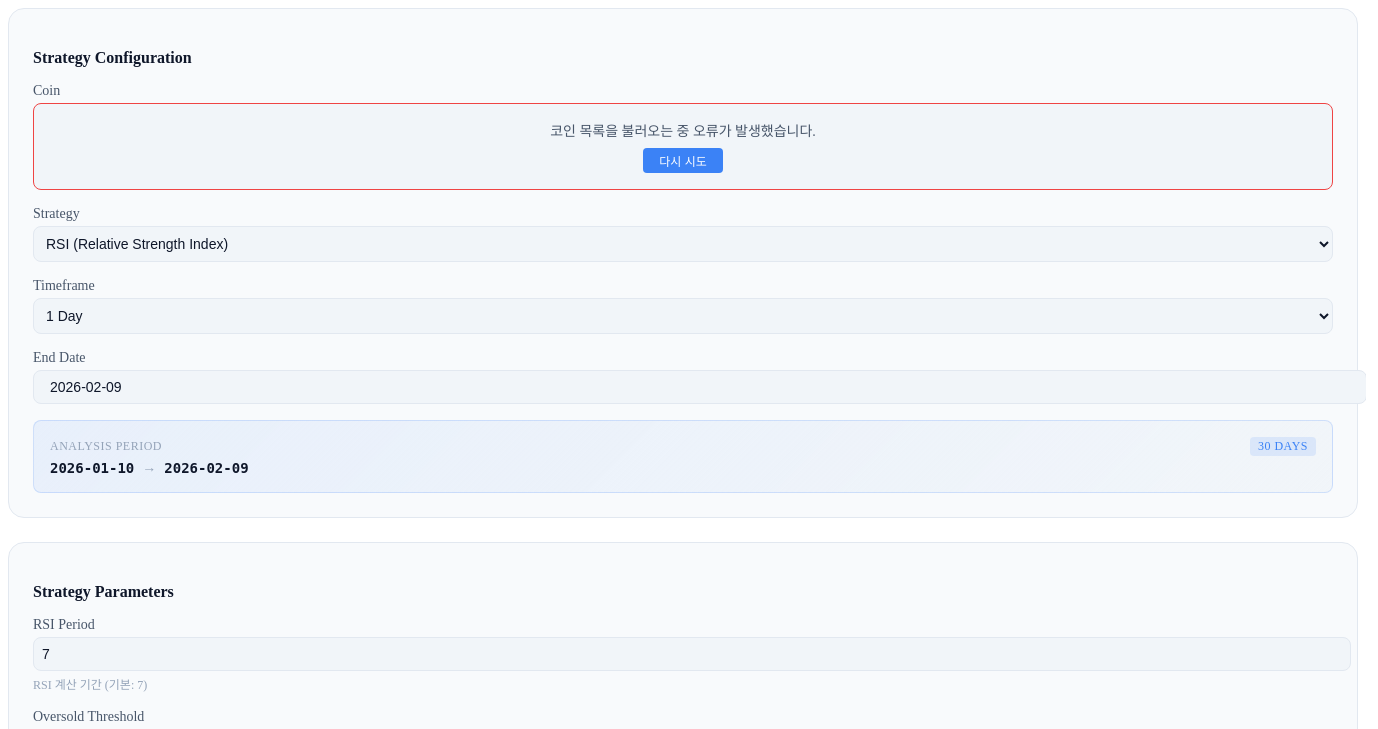
Test case: BacktestForm › Period 입력 유효성 검증이 동작한다
Replace the text in the number field with test id "param-period" with "1" at (692, 654), box [33,637,1351,671]
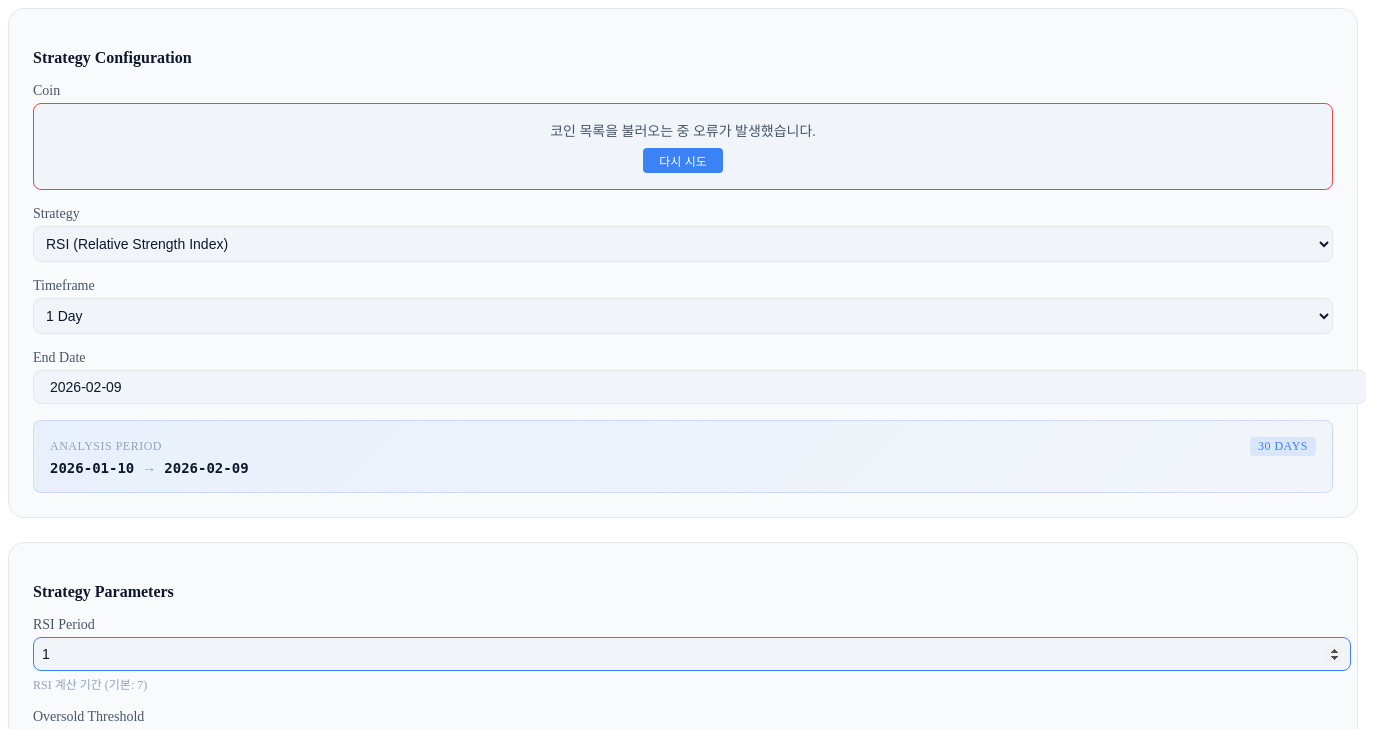
Press Tab
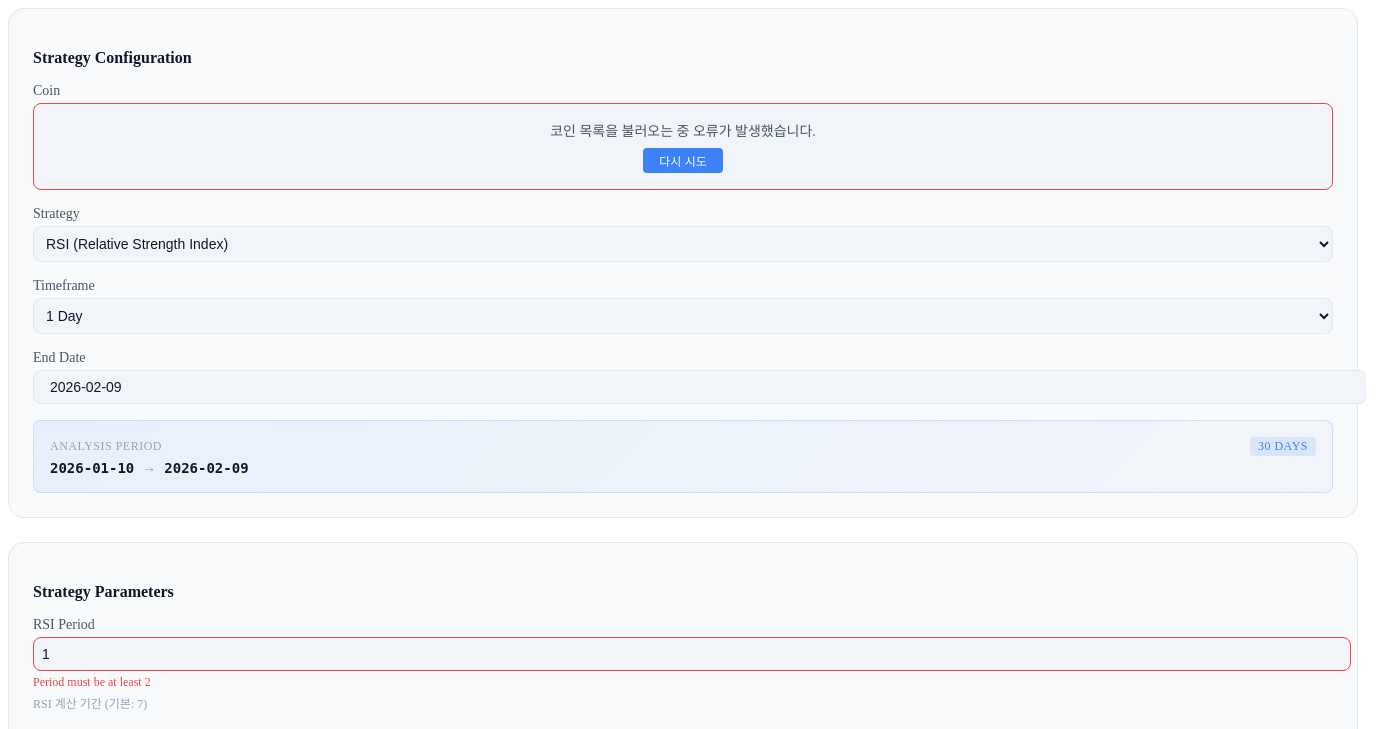
Expected: the text "Period must be at least 2" is shown, [33,675,151,689]
